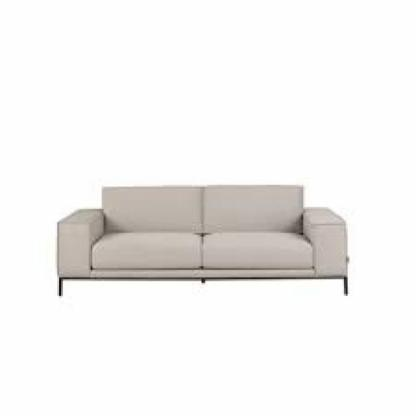Sofa: (27, 151, 368, 318)
